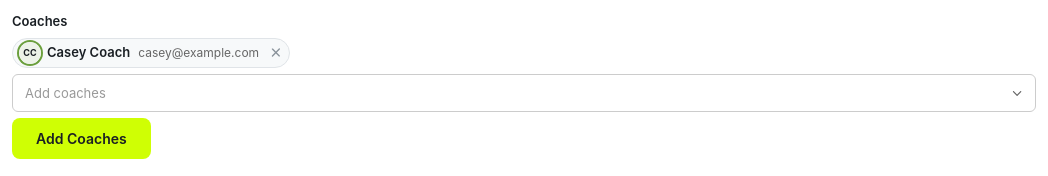
RoleMemberPicker › reports a failed removal
Click the button named "Remove Casey Coach from Coaches": (276, 52) [267, 44, 285, 62]
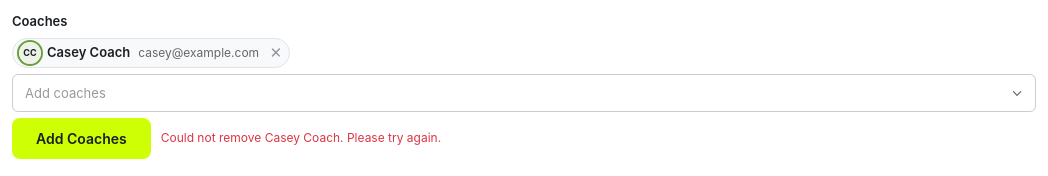
Expected: the text "Could not remove Casey Coach. Please try again." is shown, [161, 129, 441, 147]
